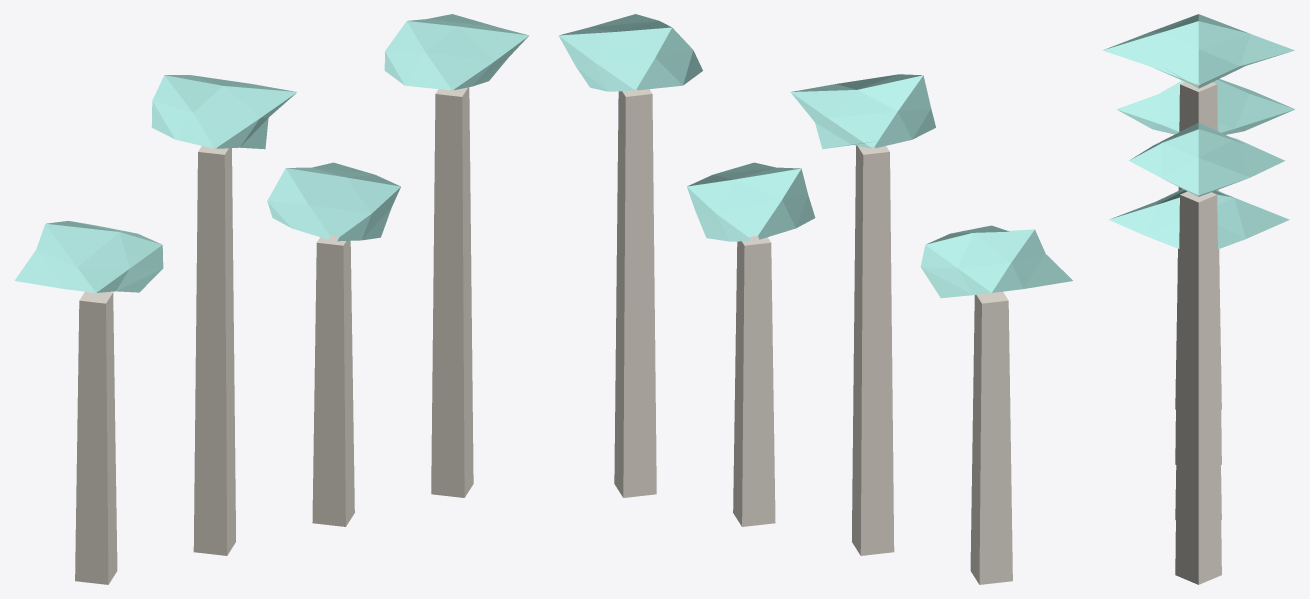
The model's file is glowcap_v08.glb.
3 views of the same model, side by side, from view 1: azimuth 30°, elevation 25°; view 2: azimuth 150°, elevation 25°; view 3: azimuth 270°, elevation 25° (orthographic). The views are drawn at different scales.
Visible parts, largest first — view 1: lod0; view 2: lod0; view 3: lod0.
Boxes of the visible parts, x1=… form: lod0: x1=14, y1=14, x2=529, y2=584; lod0: x1=558, y1=14, x2=1072, y2=584; lod0: x1=1103, y1=14, x2=1294, y2=584.
Size of what is drawn, in the model's own units: 0.6075 by 0.5354 by 0.2072.
